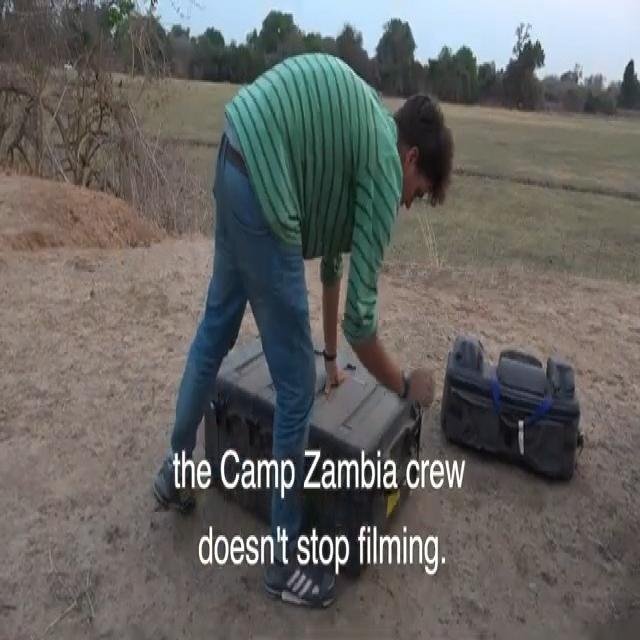device: (447, 286, 606, 542)
human: (147, 8, 448, 496)
unknown: (148, 9, 433, 463)
